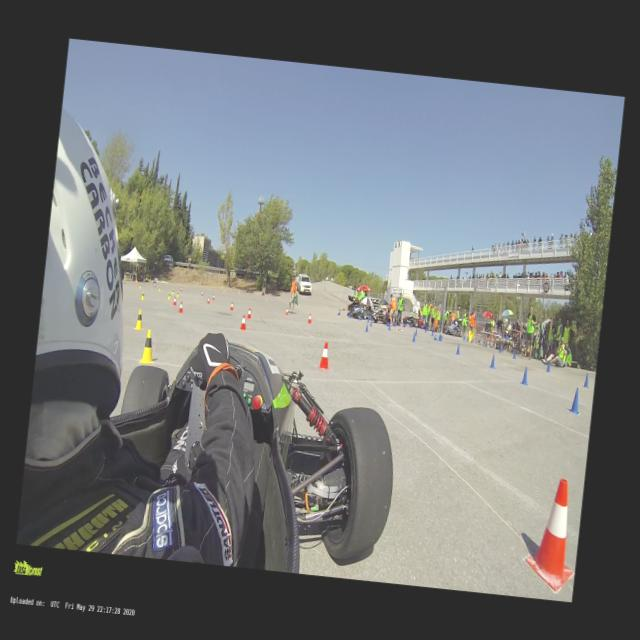blue_cone: (570, 386, 580, 412), (522, 366, 528, 384), (583, 372, 589, 387), (490, 353, 495, 368), (546, 359, 550, 372), (456, 342, 460, 354), (412, 331, 416, 342), (512, 349, 516, 358), (433, 334, 439, 340), (365, 323, 368, 331), (499, 344, 502, 352), (369, 319, 372, 326), (415, 327, 417, 335), (439, 332, 441, 340), (358, 316, 362, 320), (388, 324, 390, 331), (485, 340, 487, 347), (471, 336, 473, 343), (466, 334, 468, 341), (463, 334, 465, 341), (431, 329, 433, 336), (386, 322, 389, 326), (367, 316, 369, 322), (392, 322, 395, 326), (402, 323, 405, 327), (424, 326, 426, 332), (337, 311, 340, 315), (348, 312, 350, 317), (410, 323, 412, 327), (427, 326, 429, 330)
orange_cone: (522, 474, 583, 592), (318, 340, 332, 370), (240, 314, 248, 331), (246, 306, 252, 318), (178, 300, 183, 312), (307, 313, 312, 324), (172, 296, 176, 306), (230, 300, 233, 310), (285, 306, 288, 314), (207, 296, 210, 304), (200, 290, 202, 296), (212, 293, 214, 299), (154, 282, 156, 288), (180, 286, 182, 292), (123, 279, 125, 284)
yellow_cone: (140, 328, 156, 364), (134, 308, 144, 329), (140, 291, 144, 299), (167, 292, 170, 299), (176, 290, 179, 296), (158, 285, 160, 291), (172, 288, 174, 294), (139, 282, 141, 288), (148, 276, 150, 282)
